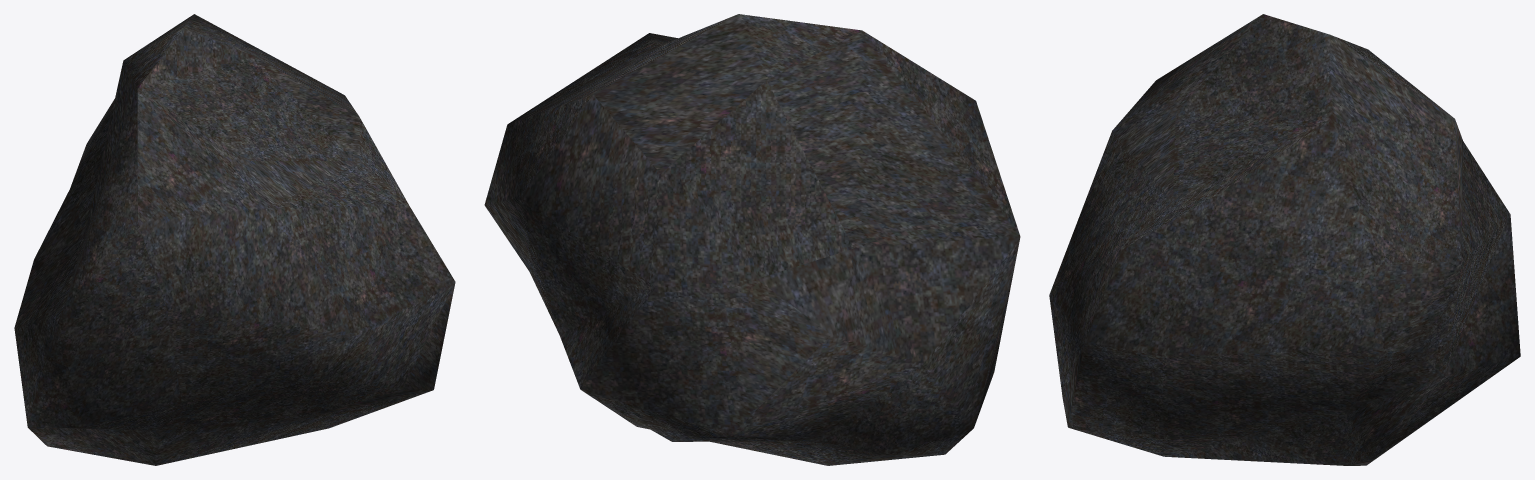
Rendered from asteroid_metal_large_s01_l3.fbx.
The picture shows the model from 3 angles, left to right: view 1: azimuth 30°, elevation 25°; view 2: azimuth 150°, elevation 25°; view 3: azimuth 270°, elevation 25°; orthographic projection. The views are drawn at different scales.
Parts seen in each view (by area): view 1: mesh_node; view 2: mesh_node; view 3: mesh_node.
Boxes of the visible parts, x1,y1,x2,y2 form: mesh_node: (14, 14, 455, 465); mesh_node: (484, 14, 1020, 465); mesh_node: (1049, 14, 1520, 465).
Bounding box in the file's own units: 114 × 111 × 114.
